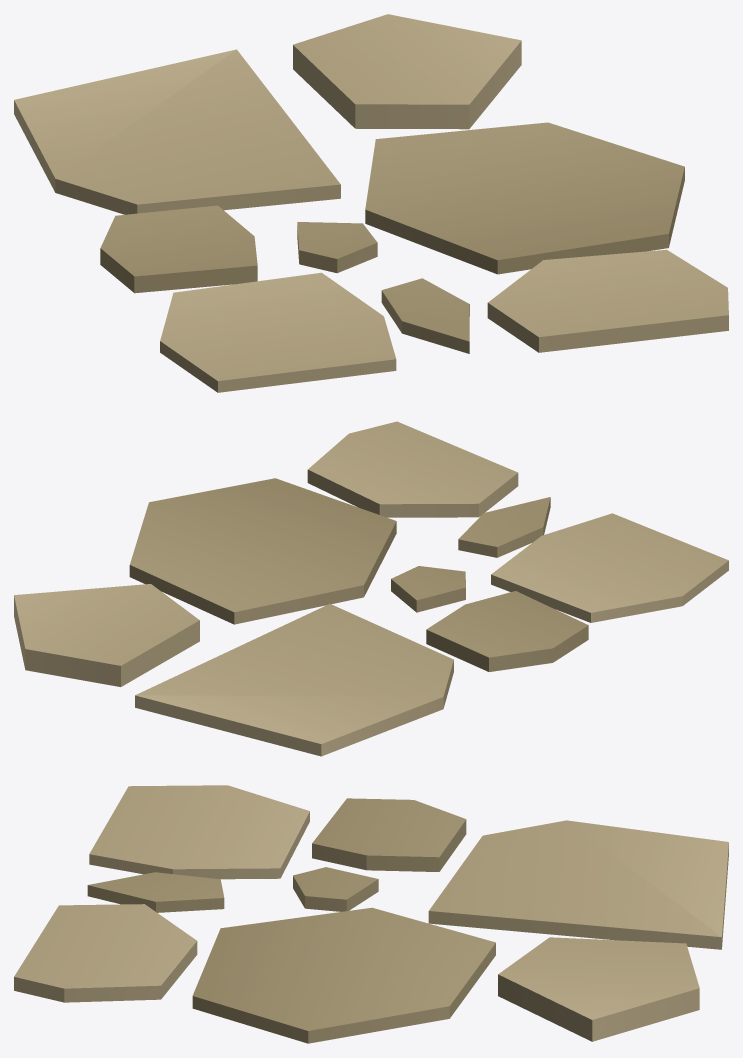
The model's file is Road_Stone_L.gltf.
3 views of the same model, one above another, from view 1: azimuth 30°, elevation 25°; view 2: azimuth 150°, elevation 25°; view 3: azimuth 270°, elevation 25° (orthographic). The views are drawn at different scales.
Visible parts, largest first — view 1: Road_Piece_D, Road_Piece_A, Road_Piece_F, Road_Piece_B, Road_Piece_G, Road_Piece_C, Road_Piece_H, Road_Piece_E; view 2: Road_Piece_A, Road_Piece_D, Road_Piece_F, Road_Piece_B, Road_Piece_G, Road_Piece_C, Road_Piece_H, Road_Piece_E; view 3: Road_Piece_D, Road_Piece_A, Road_Piece_F, Road_Piece_B, Road_Piece_G, Road_Piece_C, Road_Piece_H, Road_Piece_E.
Boxes of the visible parts, left/top/right/bottom form: Road_Piece_D: left=365, top=122, right=684, bottom=274; Road_Piece_A: left=14, top=49, right=340, bottom=214; Road_Piece_F: left=160, top=272, right=396, bottom=392; Road_Piece_B: left=293, top=14, right=521, bottom=129; Road_Piece_G: left=487, top=249, right=728, bottom=352; Road_Piece_C: left=100, top=205, right=257, bottom=293; Road_Piece_H: left=381, top=278, right=469, bottom=353; Road_Piece_E: left=297, top=222, right=377, bottom=273; Road_Piece_A: left=135, top=604, right=453, bottom=756; Road_Piece_D: left=129, top=478, right=396, bottom=624; Road_Piece_F: left=491, top=513, right=728, bottom=622; Road_Piece_B: left=14, top=584, right=199, bottom=686; Road_Piece_G: left=307, top=421, right=518, bottom=517; Road_Piece_C: left=426, top=591, right=588, bottom=671; Road_Piece_H: left=458, top=497, right=550, bottom=557; Road_Piece_E: left=391, top=566, right=465, bottom=612; Road_Piece_D: left=192, top=907, right=495, bottom=1043; Road_Piece_A: left=428, top=820, right=728, bottom=949; Road_Piece_F: left=89, top=785, right=309, bottom=879; Road_Piece_B: left=498, top=937, right=699, bottom=1041; Road_Piece_G: left=14, top=904, right=197, bottom=1002; Road_Piece_C: left=312, top=798, right=466, bottom=871; Road_Piece_H: left=87, top=872, right=224, bottom=912; Road_Piece_E: left=293, top=867, right=378, bottom=911.
Size of the model in its own units: 3.12 by 0.1293 by 3.8.
1 material, 1 textured.
